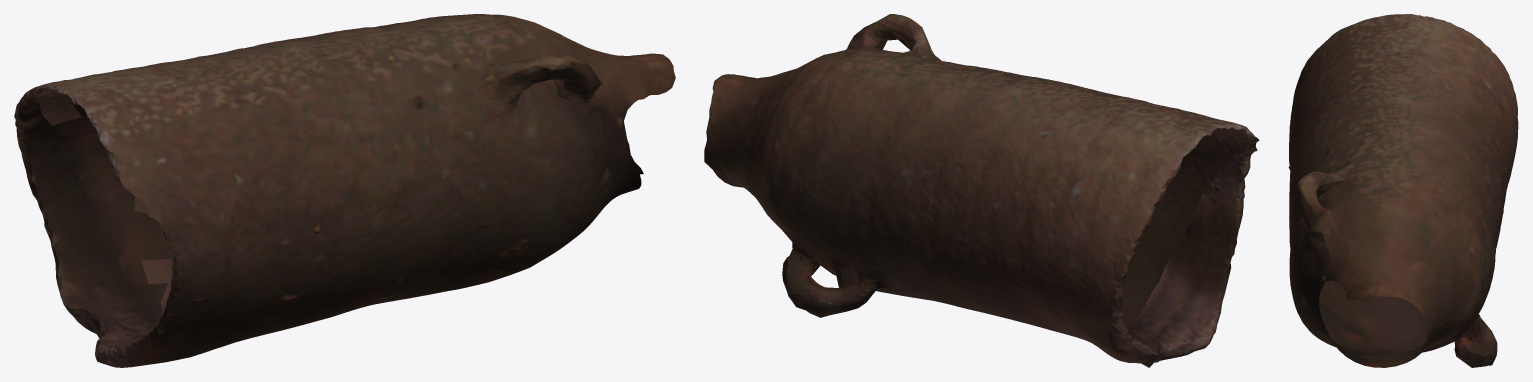
The picture shows the model from 3 angles, left to right: view 1: azimuth 30°, elevation 25°; view 2: azimuth 150°, elevation 25°; view 3: azimuth 270°, elevation 25°; orthographic projection. The views are drawn at different scales.
Parts seen in each view (by area): view 1: model11-2.001; view 2: model11-2.001; view 3: model11-2.001.
Boxes of the visible parts, <box> form: model11-2.001: <box>14,14,675,367</box>; model11-2.001: <box>704,14,1259,367</box>; model11-2.001: <box>1288,14,1518,367</box>.
Size of the model in its own units: 1.84 by 0.8197 by 0.822.
